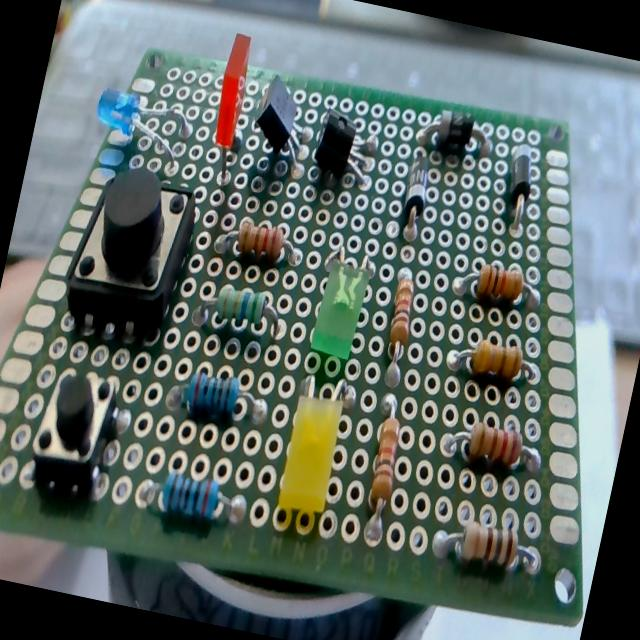diode: (412, 101, 496, 163), (494, 140, 542, 227), (392, 150, 438, 238)
led: (270, 362, 354, 522), (198, 28, 264, 190), (305, 230, 379, 364), (88, 84, 196, 169)
resistor: (345, 388, 421, 555), (157, 360, 280, 442), (426, 512, 544, 594), (130, 458, 250, 538), (209, 193, 311, 285), (190, 277, 292, 364), (437, 412, 552, 480), (370, 258, 428, 388), (446, 248, 544, 320), (444, 330, 550, 390)
switch: (56, 167, 206, 333), (21, 347, 137, 500)
transistor: (306, 98, 383, 199), (246, 66, 316, 176)
